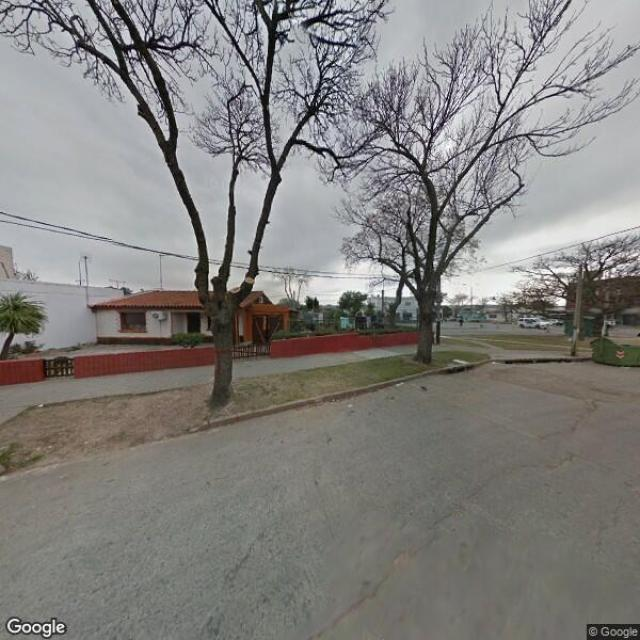garbage container: (584, 327, 640, 373)
